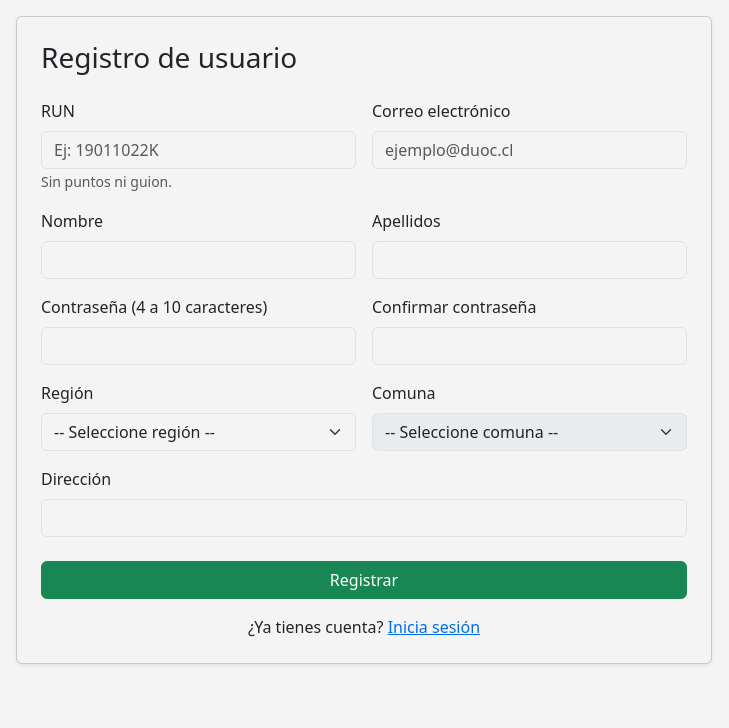
Test: <Registro /> › muestra errores si se envía vacío
Click the button "Registrar" at (364, 580), box [41,561,687,599]
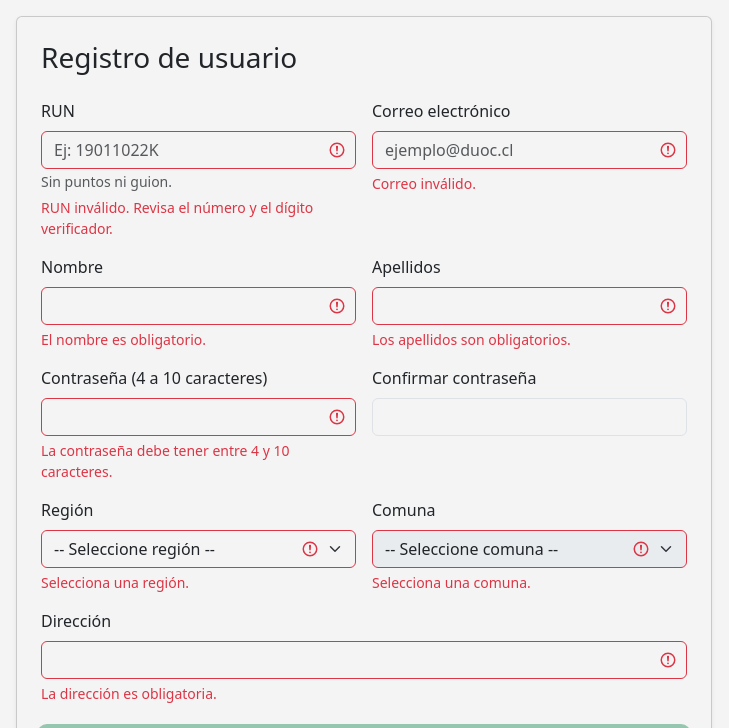
expect the text "RUN inválido. Revisa el número y el dígito verificador." is shown: met, box [41,197,356,239]
expect the text "Selecciona una región." is shown: met, box [41,573,189,592]
